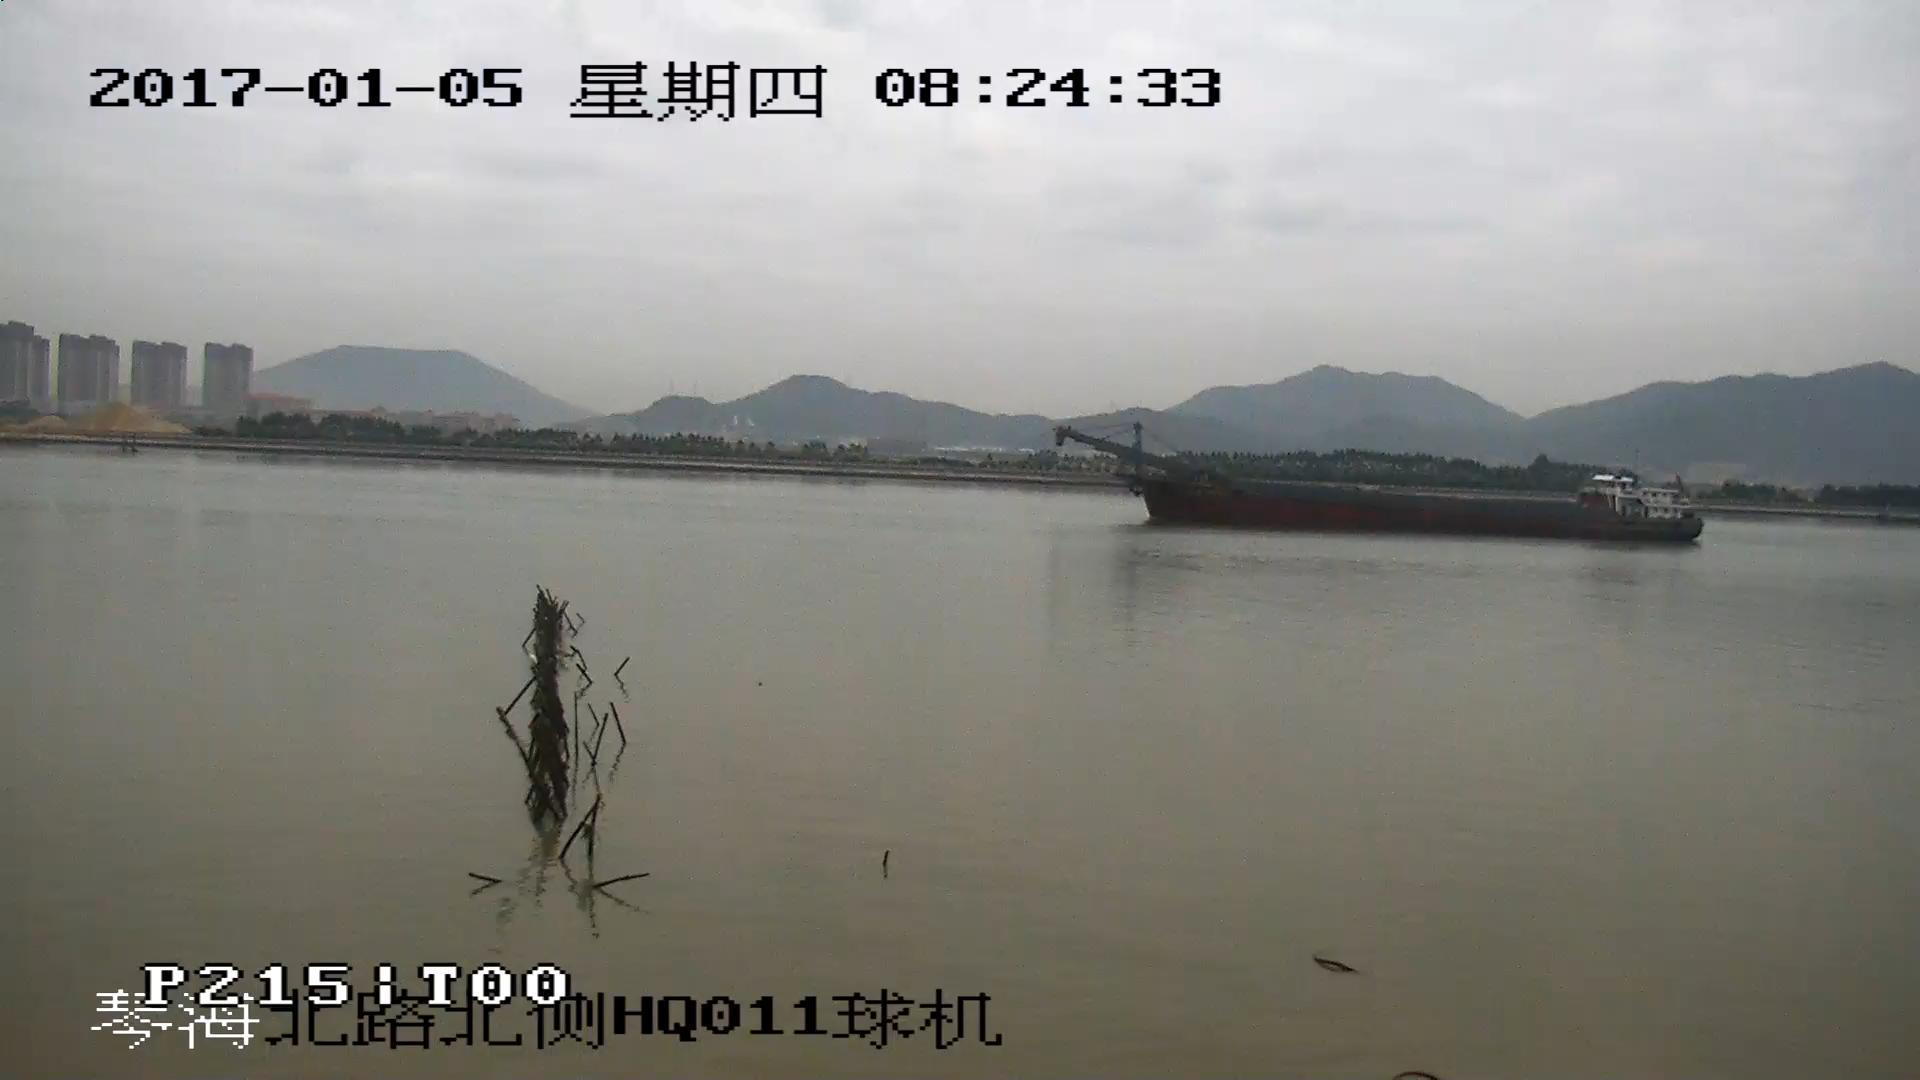Ship: (1062, 430, 1705, 545)
